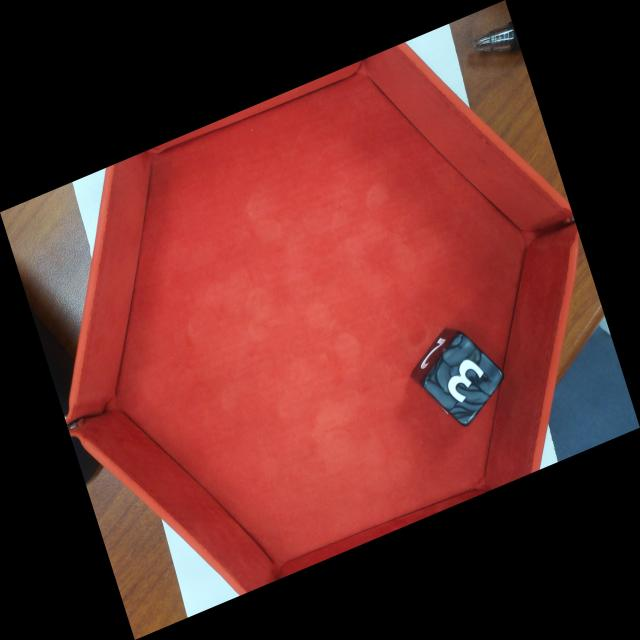dice: (421, 330, 508, 433)
